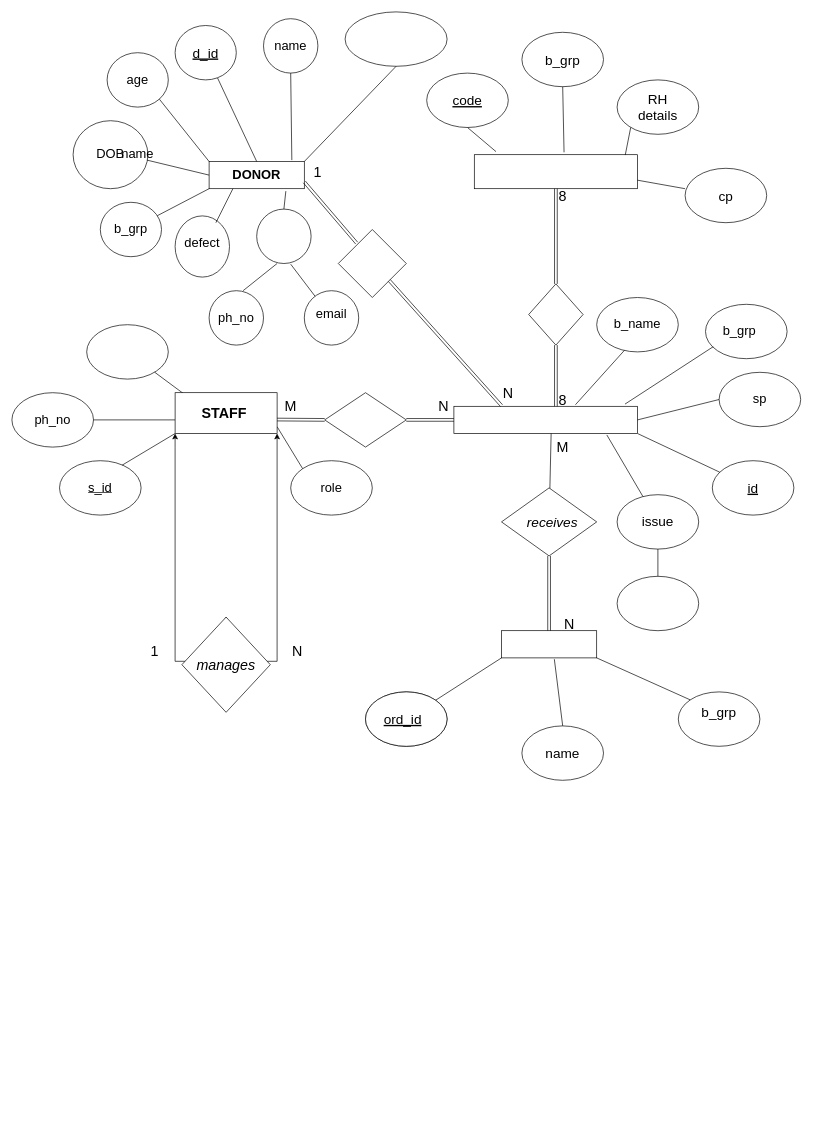
The diagram is 813 pixels wide and 1136 high, and some of its shapes have lost their labels. The shapes that lost their labels are listed below. From the top down, each one's box as (x1, y1, x2, y2) in pixels, then its label:
(344, 11, 447, 66): donating_date
(474, 154, 638, 189): BLOOD DETAILS
(256, 208, 311, 264): contact
(338, 229, 406, 298): donate
(528, 283, 583, 345): has
(324, 392, 406, 447): works for
(453, 406, 638, 434): BLOOD BANK
(616, 576, 699, 631): status
(501, 630, 597, 658): ORDERS
